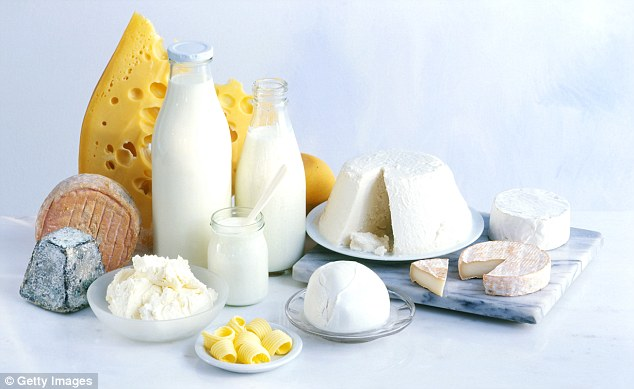glass of milk: (148, 33, 234, 264), (231, 76, 311, 273), (202, 211, 273, 309)
plain rice: (100, 251, 222, 333)
